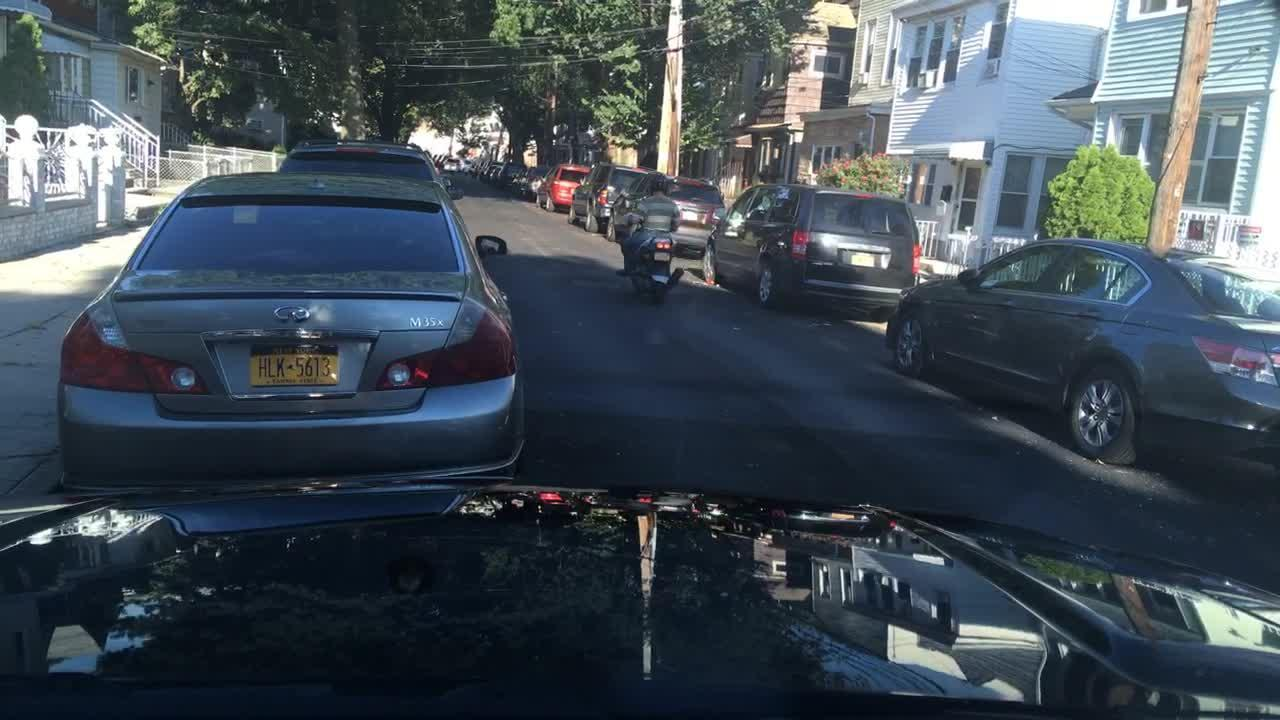Infiniti: (268, 301, 316, 329)
